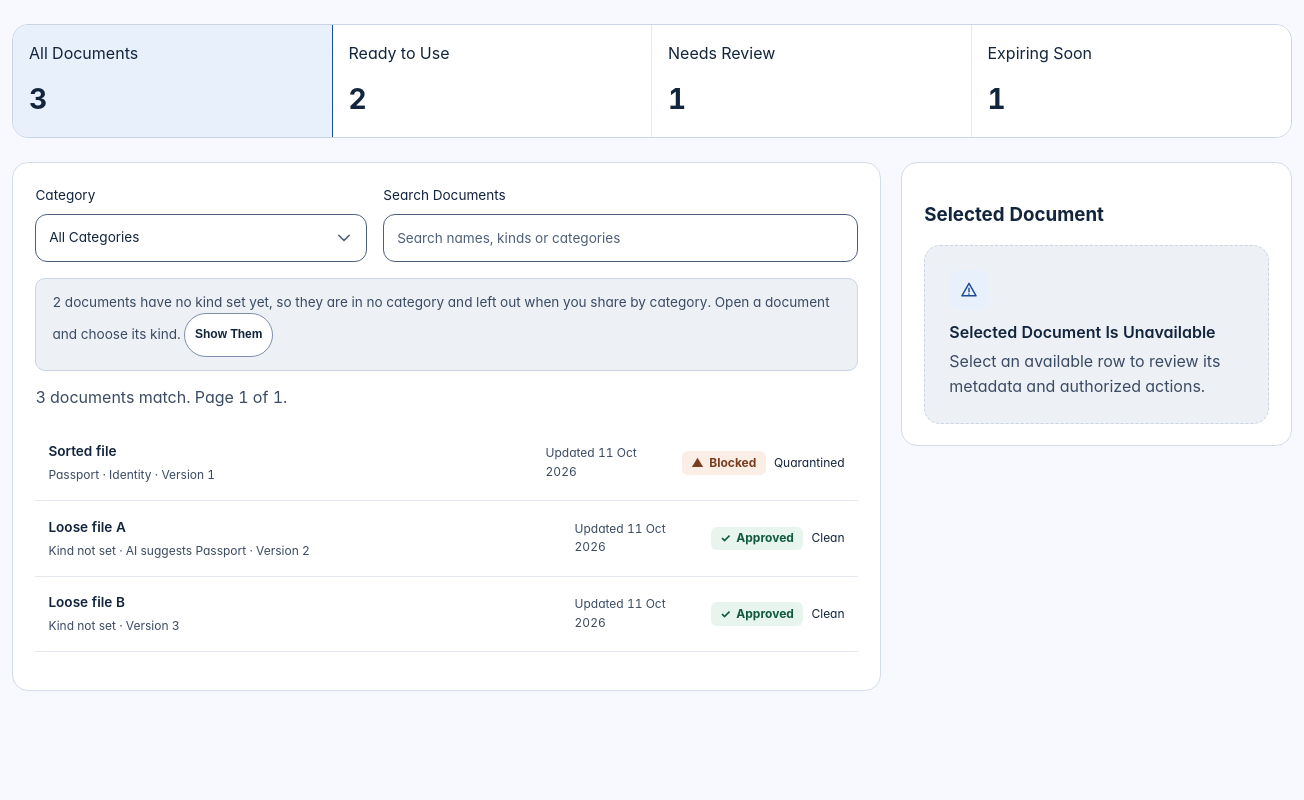
Test case: documents with no kind set › lists only those documents when "Not Set Yet" is chosen
Click the button "Show Them" at [229, 335], box [184,313,273,357]
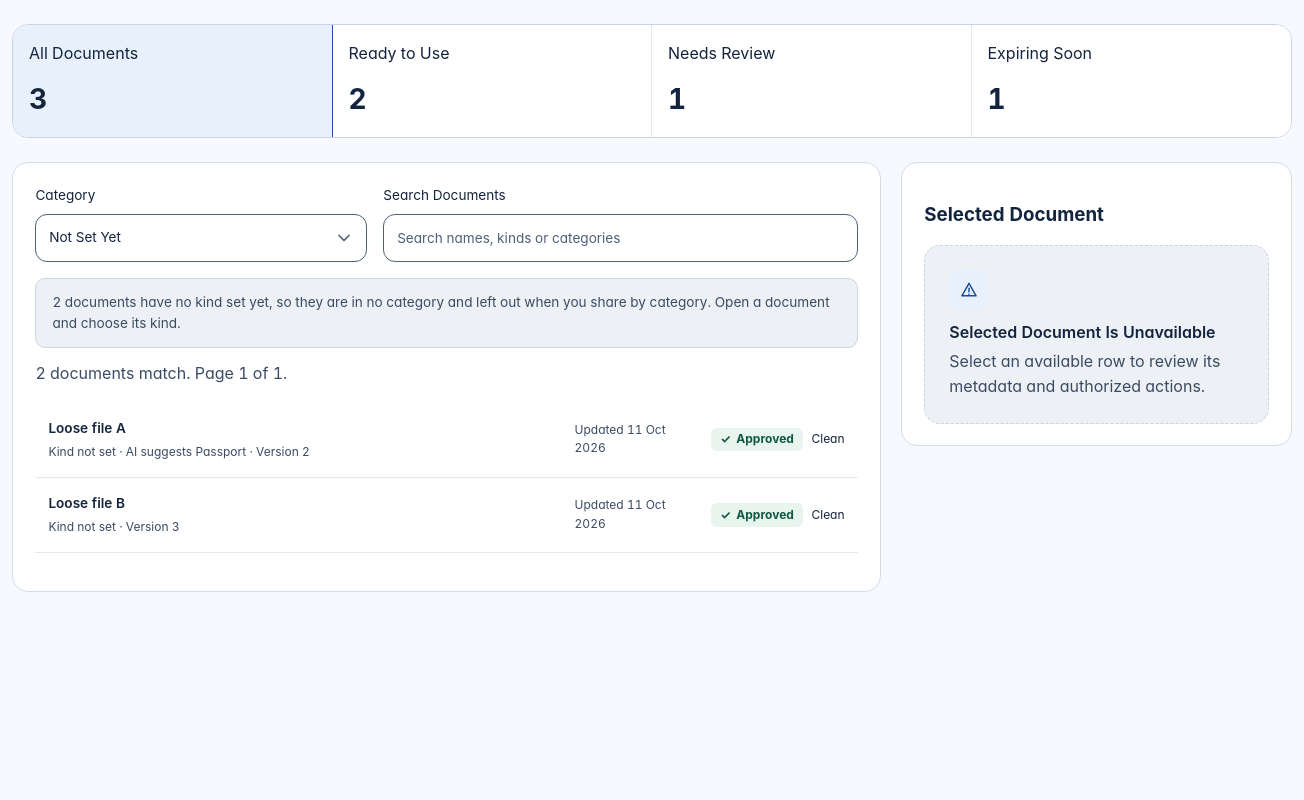
Expected: the number of list items is 2, [35,402,858,478]; [35,478,858,553]
Now the text "Sorted file" is gone
